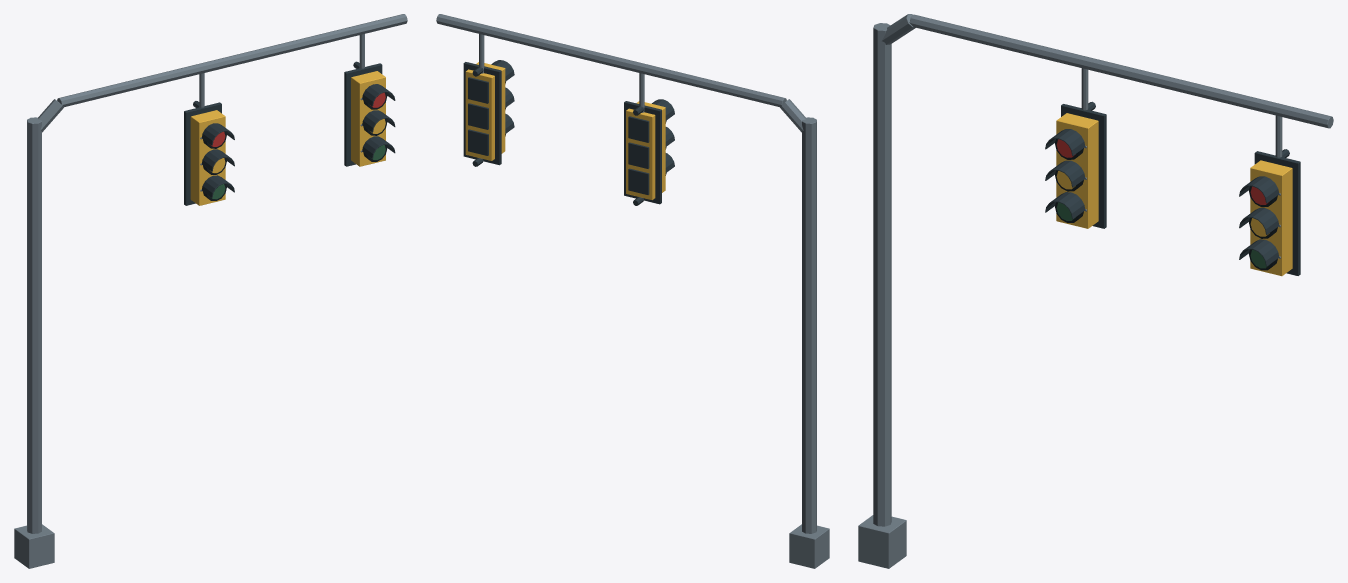
File: b02_mast_arm_traffic_signal.glb
The picture shows the model from 3 angles, left to right: view 1: azimuth 30°, elevation 25°; view 2: azimuth 150°, elevation 25°; view 3: azimuth 330°, elevation 25°; orthographic projection. The views are drawn at different scales.
Parts seen in each view (by area): view 1: b02_mast_arm_traffic_signal; view 2: b02_mast_arm_traffic_signal; view 3: b02_mast_arm_traffic_signal.
Boxes of the visible parts, left/top/right/bottom form: b02_mast_arm_traffic_signal: left=14, top=14, right=407, bottom=568; b02_mast_arm_traffic_signal: left=436, top=14, right=829, bottom=568; b02_mast_arm_traffic_signal: left=858, top=14, right=1333, bottom=568.
Bounding box in the file's own units: 5.38 × 6.11 × 0.7044.
